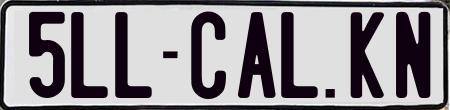5: (29, 9, 68, 99)
A: (236, 12, 280, 101)
C: (190, 10, 227, 100)
K: (348, 12, 383, 100)
L: (278, 10, 321, 101), (68, 10, 109, 99), (112, 10, 153, 96)
N: (393, 11, 431, 103)
